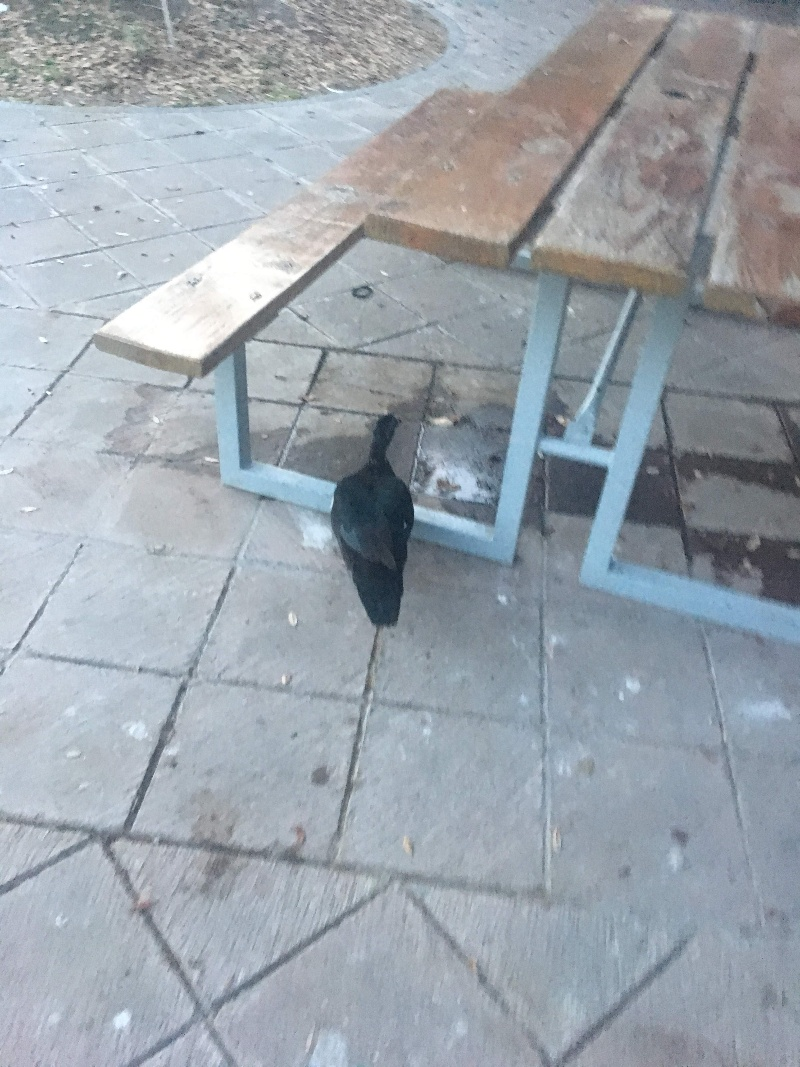pato: (332, 414, 404, 615)
